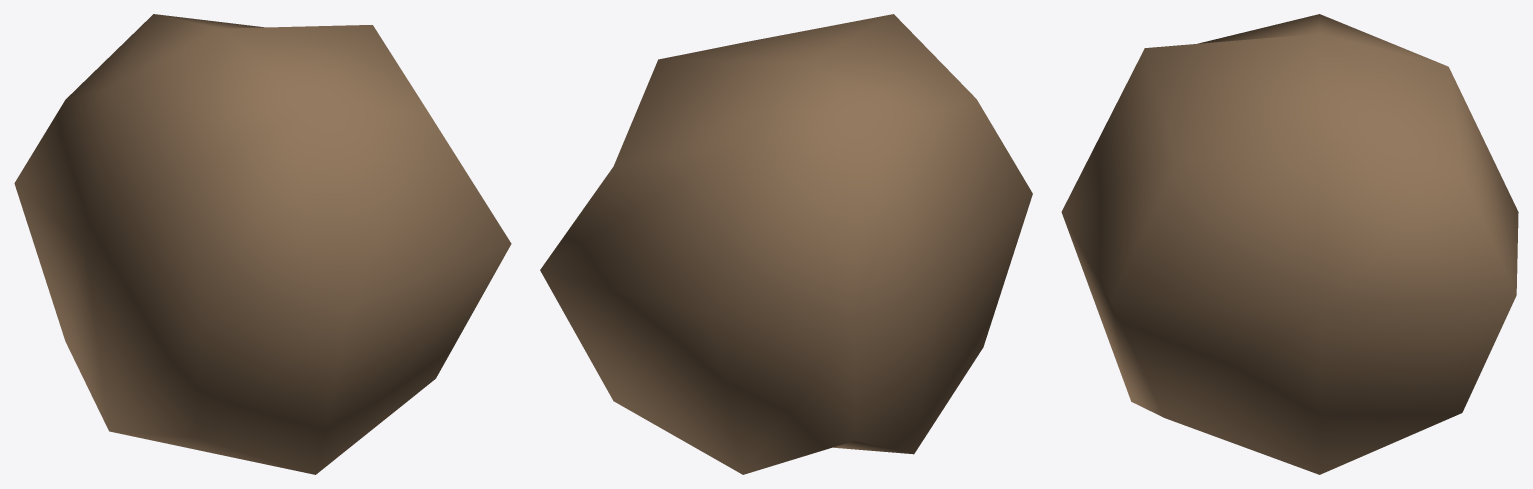
The model's file is meteorRock.fbx.
3 views of the same model, side by side, from view 1: azimuth 30°, elevation 25°; view 2: azimuth 150°, elevation 25°; view 3: azimuth 270°, elevation 25° (orthographic). The views are drawn at different scales.
Parts seen in each view (by area): view 1: meteorRock_geo; view 2: meteorRock_geo; view 3: meteorRock_geo.
Boxes of the visible parts, x1=… form: meteorRock_geo: x1=14, y1=14, x2=511, y2=474; meteorRock_geo: x1=540, y1=14, x2=1032, y2=474; meteorRock_geo: x1=1061, y1=14, x2=1518, y2=474.
Bounding box in the file's own units: 103 × 114 × 123.
